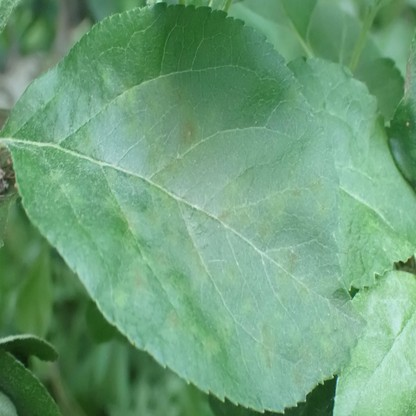powdery_mildew: (46, 227, 99, 295)
scab: (217, 179, 249, 227), (311, 320, 352, 354), (145, 71, 171, 115), (291, 344, 311, 399), (176, 111, 201, 150), (274, 249, 299, 287), (129, 259, 149, 306), (258, 322, 275, 370), (166, 310, 194, 336), (120, 90, 137, 131), (102, 191, 127, 218), (310, 180, 327, 219), (78, 118, 98, 151), (149, 177, 173, 204), (98, 62, 121, 90), (145, 134, 160, 170), (59, 184, 80, 206), (192, 248, 206, 279), (122, 226, 138, 252), (164, 157, 186, 175), (268, 195, 284, 219), (202, 336, 222, 355), (240, 297, 256, 317), (144, 206, 159, 227), (217, 318, 231, 339), (257, 219, 268, 244), (296, 286, 313, 302), (224, 262, 236, 283), (167, 226, 179, 247), (114, 288, 128, 305), (47, 168, 63, 182), (157, 251, 166, 267), (290, 188, 302, 198)
